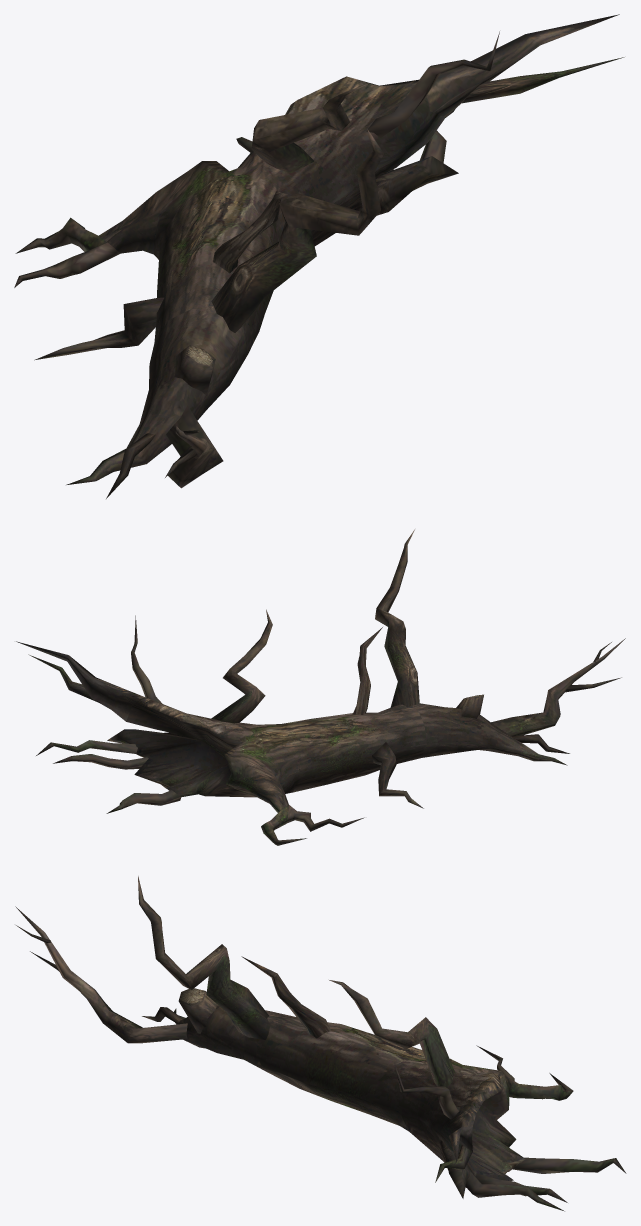
File: SC_ZGFzhiwu05.FBX
3 views of the same model, one above another, from view 1: azimuth 30°, elevation 25°; view 2: azimuth 150°, elevation 25°; view 3: azimuth 270°, elevation 25° (orthographic). The views are drawn at different scales.
Parts seen in each view (by area): view 1: SC_ZGFzhiwu05; view 2: SC_ZGFzhiwu05; view 3: SC_ZGFzhiwu05.
Boxes of the visible parts, bbox=[...] form: SC_ZGFzhiwu05: bbox=[14, 14, 624, 498]; SC_ZGFzhiwu05: bbox=[16, 529, 625, 845]; SC_ZGFzhiwu05: bbox=[15, 876, 626, 1211].
Size of the model in its own units: 1268 by 511 by 1179.
